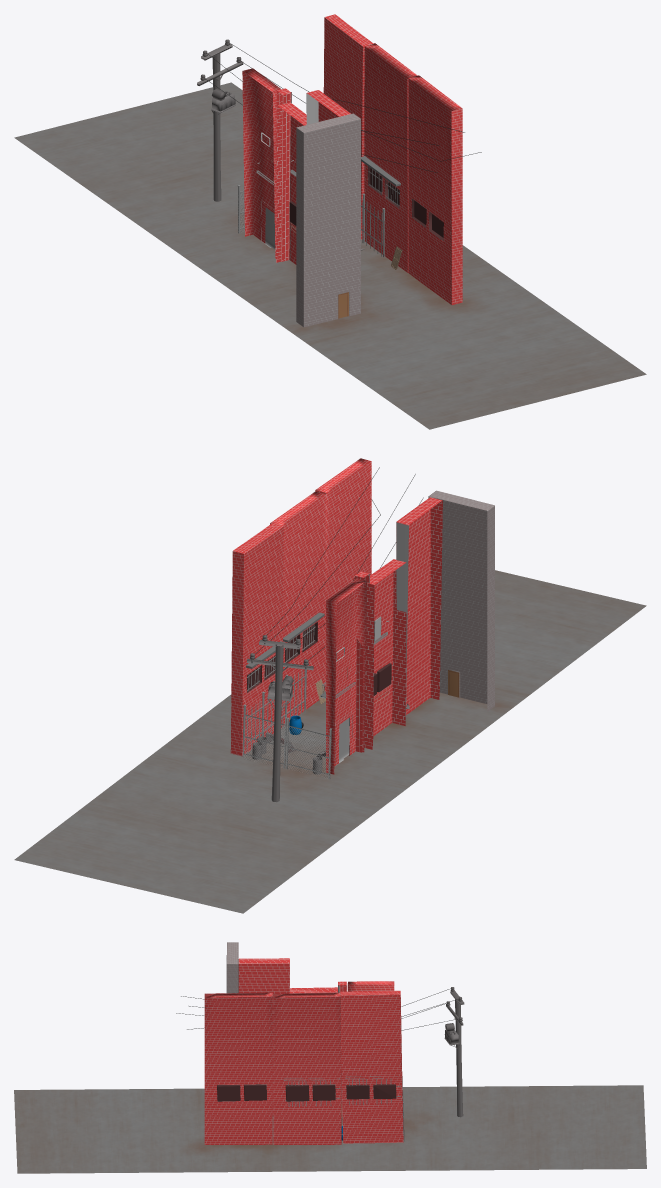
Rendered from new_street2.fbx.
3 renders of one model, top to bottom at view 1: azimuth 30°, elevation 25°; view 2: azimuth 150°, elevation 25°; view 3: azimuth 270°, elevation 25°, orthographic. The views are drawn at different scales.
Visible parts, largest first — view 1: street_geo, polySurface336, polySurface344, polySurface337, polySurface73, polySurface339, polySurface74, poll, polySurface36, polySurface72, wires_geo, Metal_02_geo; view 2: street_geo, polySurface336, polySurface339, polySurface337, polySurface72, polySurface74, polySurface73, polySurface344, Metal_07_geo, poll, polySurface36, Metal_02_geo; view 3: street_geo, polySurface344, polySurface337, polySurface339, polySurface72, poll, polySurface336, polySurface73.
Boxes of the visible parts, x1=… form: street_geo: x1=14, y1=82, x2=646, y2=429; polySurface336: x1=296, y1=113, x2=360, y2=327; polySurface344: x1=408, y1=75, x2=462, y2=304; polySurface337: x1=364, y1=43, x2=417, y2=272; polySurface73: x1=242, y1=68, x2=280, y2=258; polySurface339: x1=323, y1=14, x2=373, y2=239; polySurface74: x1=276, y1=102, x2=306, y2=264; poll: x1=197, y1=39, x2=243, y2=201; polySurface36: x1=276, y1=88, x2=291, y2=261; polySurface72: x1=306, y1=90, x2=350, y2=124; wires_geo: x1=204, y1=42, x2=481, y2=172; Metal_02_geo: x1=361, y1=193, x2=384, y2=257; street_geo: x1=14, y1=570, x2=646, y2=913; polySurface336: x1=428, y1=490, x2=494, y2=711; polySurface339: x1=230, y1=523, x2=283, y2=756; polySurface337: x1=270, y1=491, x2=326, y2=725; polySurface72: x1=396, y1=497, x2=442, y2=720; polySurface74: x1=364, y1=559, x2=406, y2=749; polySurface73: x1=326, y1=578, x2=366, y2=774; polySurface344: x1=315, y1=458, x2=371, y2=599; Metal_07_geo: x1=242, y1=704, x2=331, y2=779; poll: x1=247, y1=635, x2=313, y2=802; polySurface36: x1=354, y1=571, x2=369, y2=752; Metal_02_geo: x1=246, y1=669, x2=306, y2=755; street_geo: x1=14, y1=1085, x2=646, y2=1173; polySurface344: x1=204, y1=992, x2=272, y2=1144; polySurface337: x1=273, y1=992, x2=341, y2=1144; polySurface339: x1=340, y1=990, x2=403, y2=1143; polySurface72: x1=238, y1=958, x2=289, y2=1114; poll: x1=444, y1=987, x2=464, y2=1117; polySurface336: x1=226, y1=942, x2=238, y2=993; polySurface73: x1=348, y1=981, x2=394, y2=991.
Size of the model in its own units: 344 by 281 by 1040.
